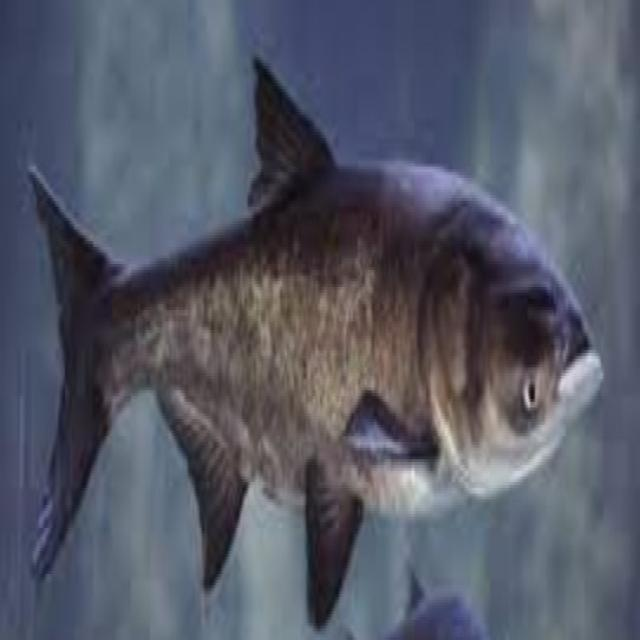Big-Head-Carp: (12, 20, 619, 640)
